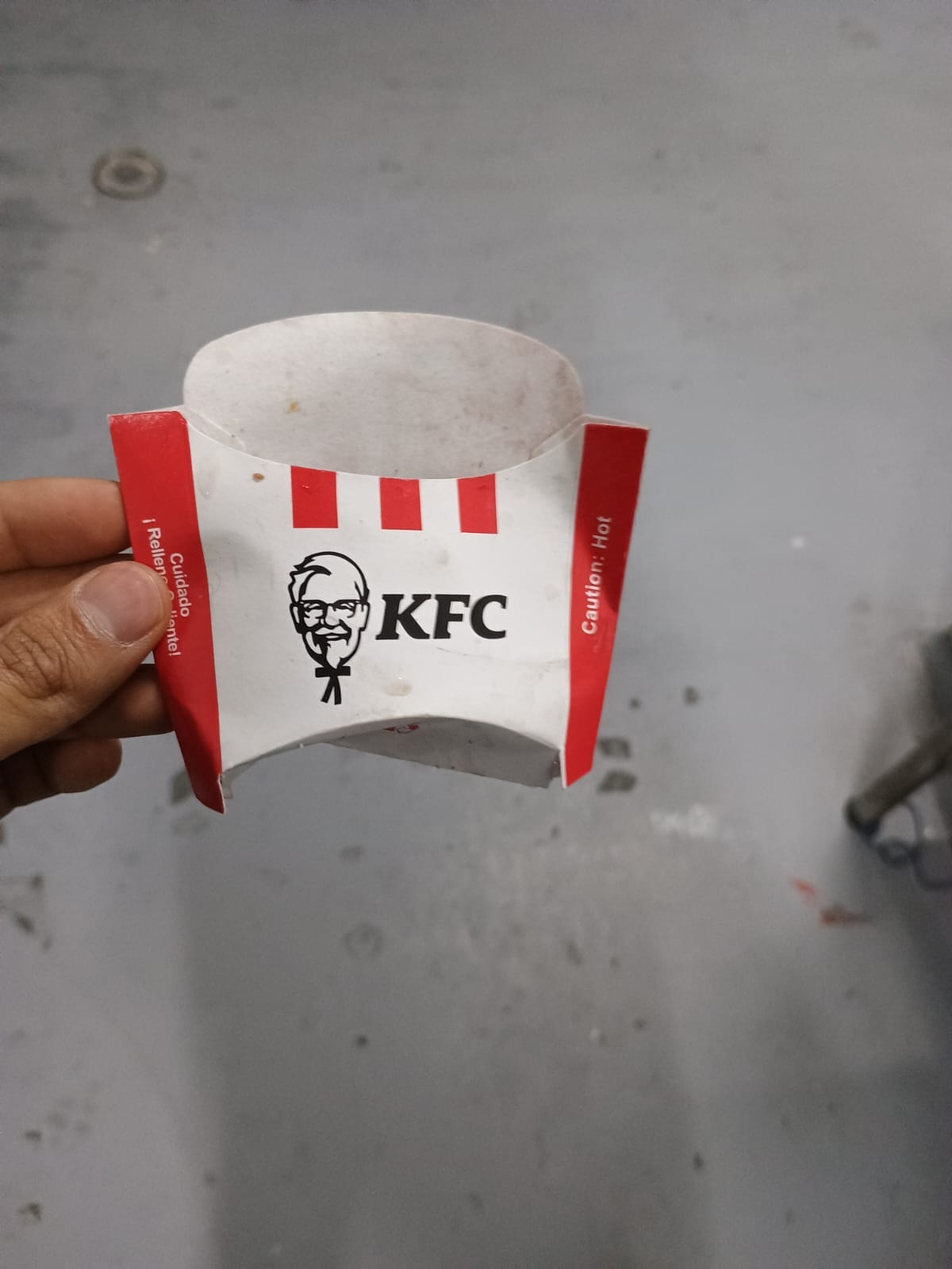Carton: (110, 311, 651, 821)
